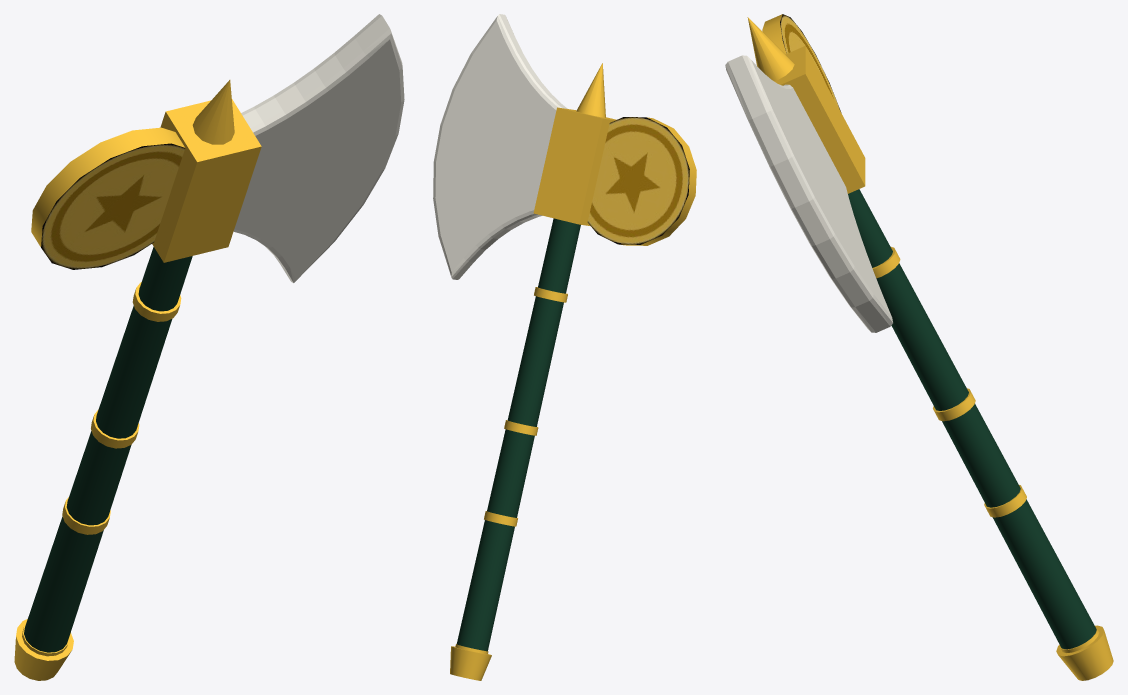
File: hand_eqtz4.glb
3 views of the same model, side by side, from view 1: azimuth 30°, elevation 25°; view 2: azimuth 150°, elevation 25°; view 3: azimuth 270°, elevation 25° (orthographic). The views are drawn at different scales.
Bounding box in the file's own units: 2.27 × 4.7 × 2.41.
4 materials, 1 textured.
